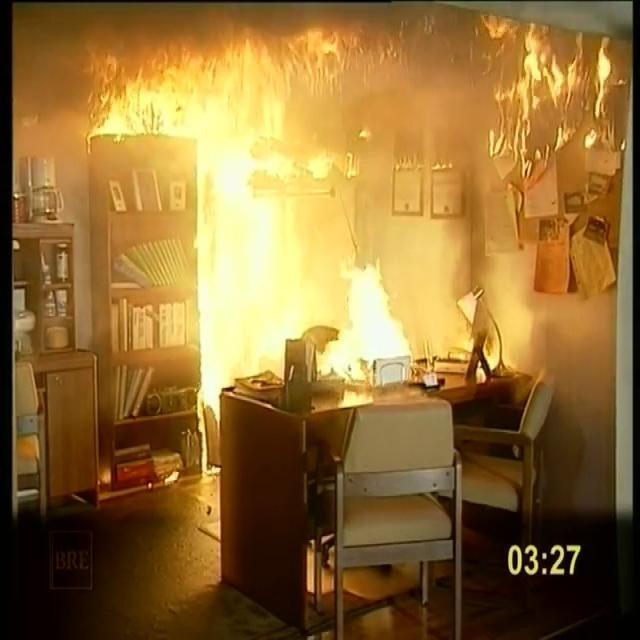Fire: (54, 0, 629, 473)
